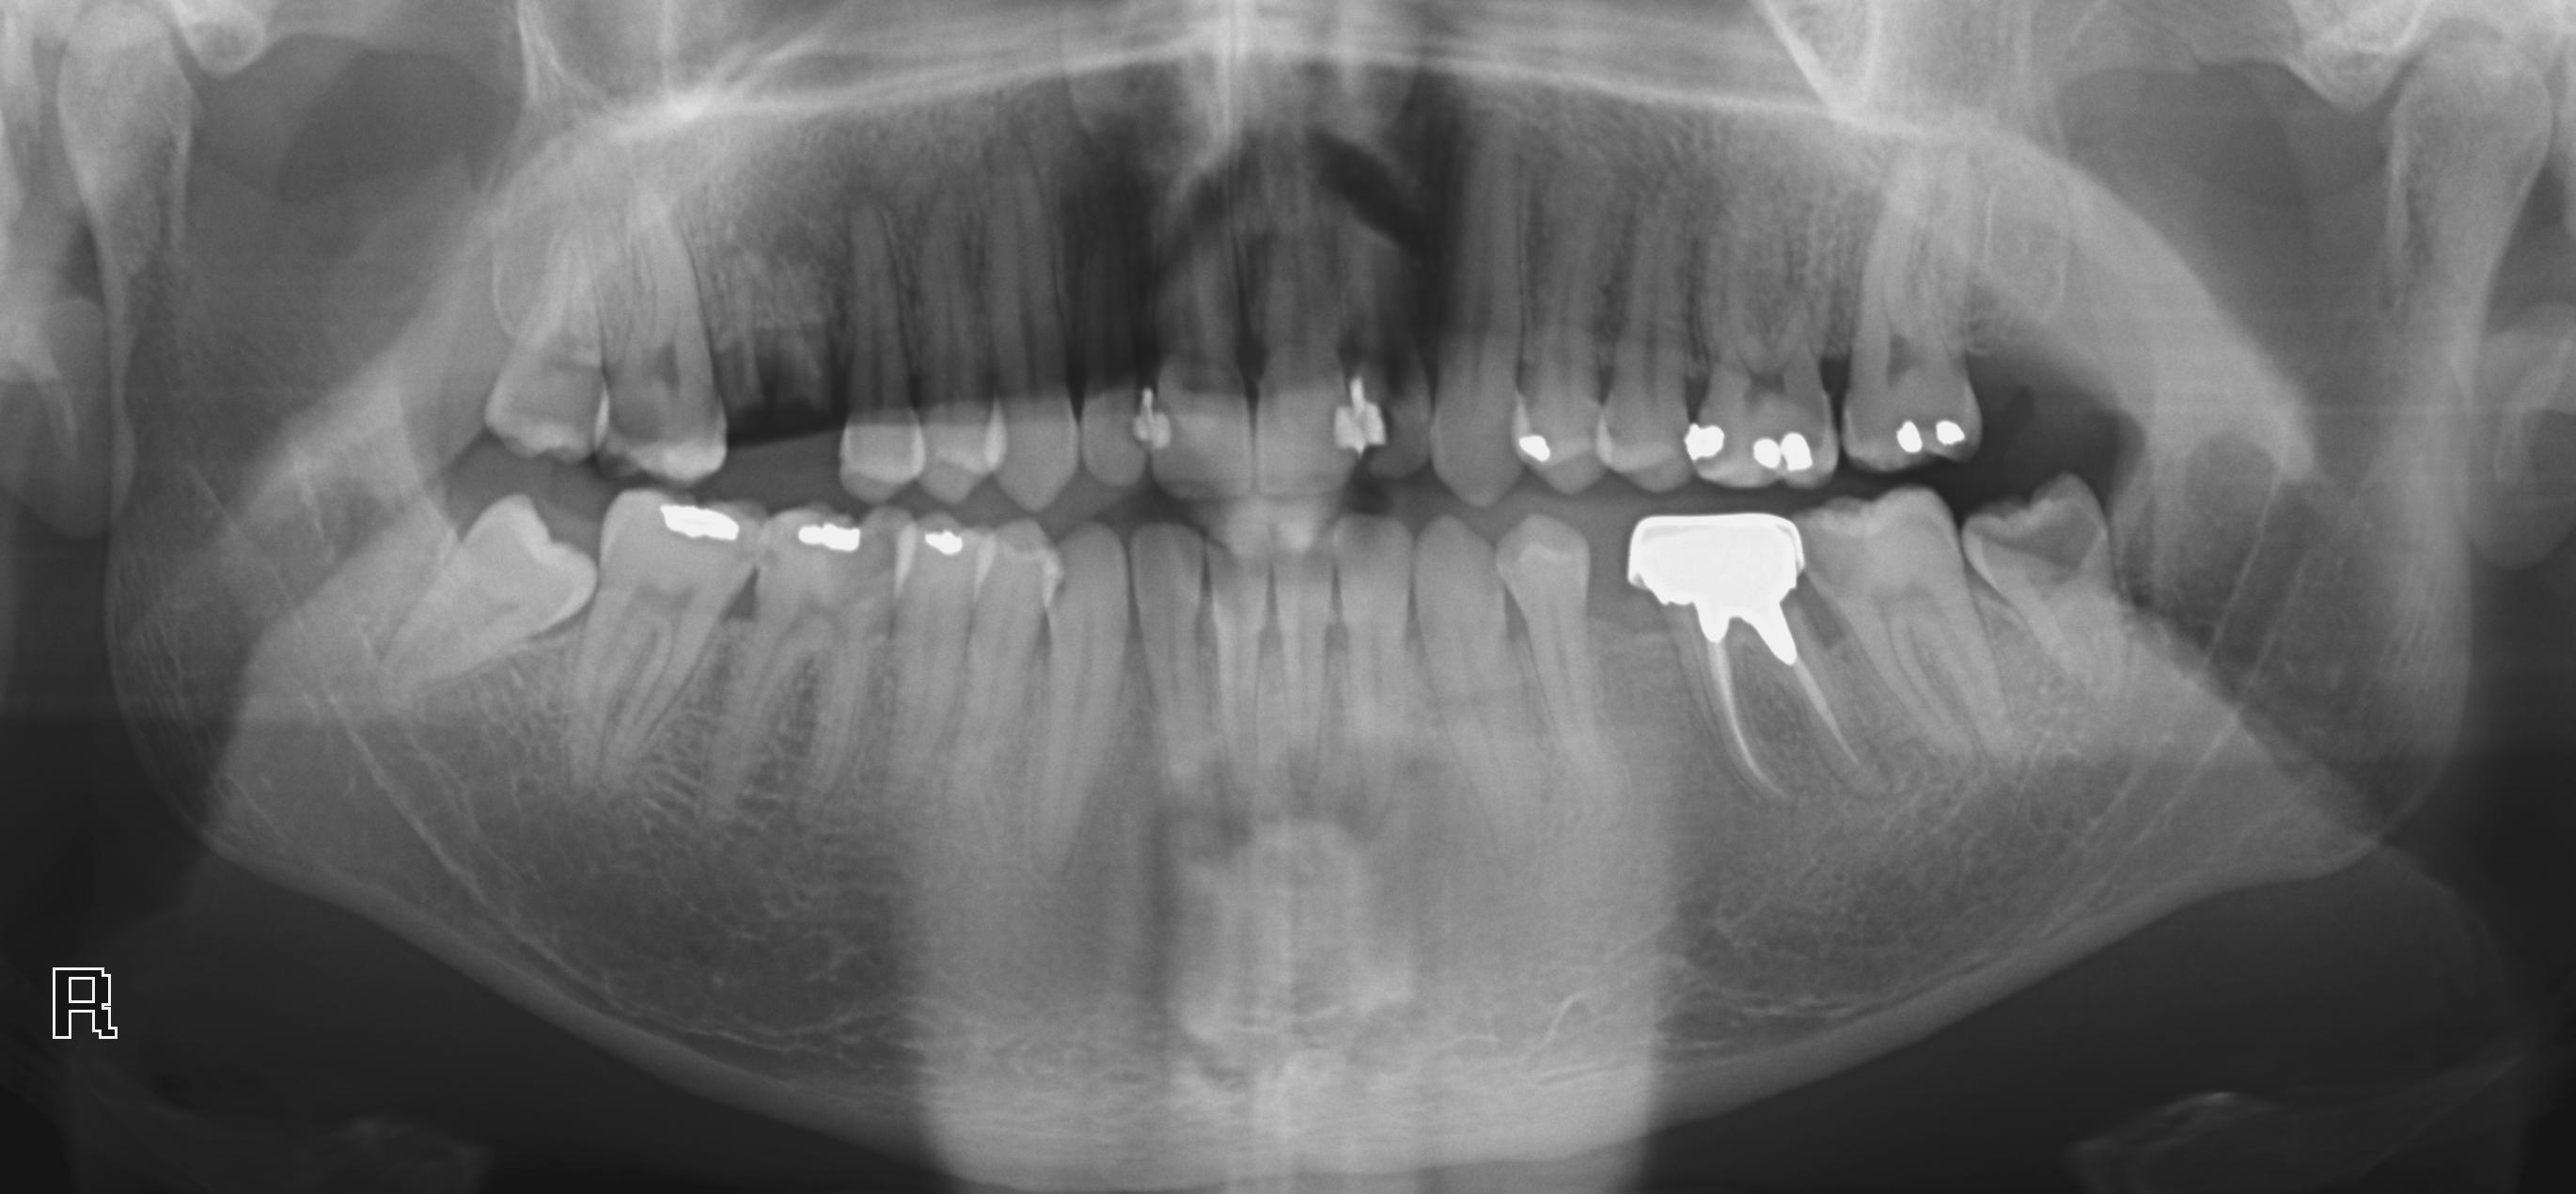Çürük: (1615, 499, 1828, 621), (652, 494, 747, 555), (1876, 414, 1986, 457), (1746, 422, 1819, 478), (1324, 407, 1382, 450), (792, 524, 862, 553), (1674, 414, 1727, 450), (925, 521, 969, 555), (1137, 411, 1173, 447), (1516, 432, 1552, 468)
Çürük Bölgesi: (1980, 516, 2096, 590), (601, 397, 665, 452), (856, 517, 908, 580), (1380, 394, 1403, 453), (1692, 452, 1735, 483), (1117, 409, 1137, 450)
